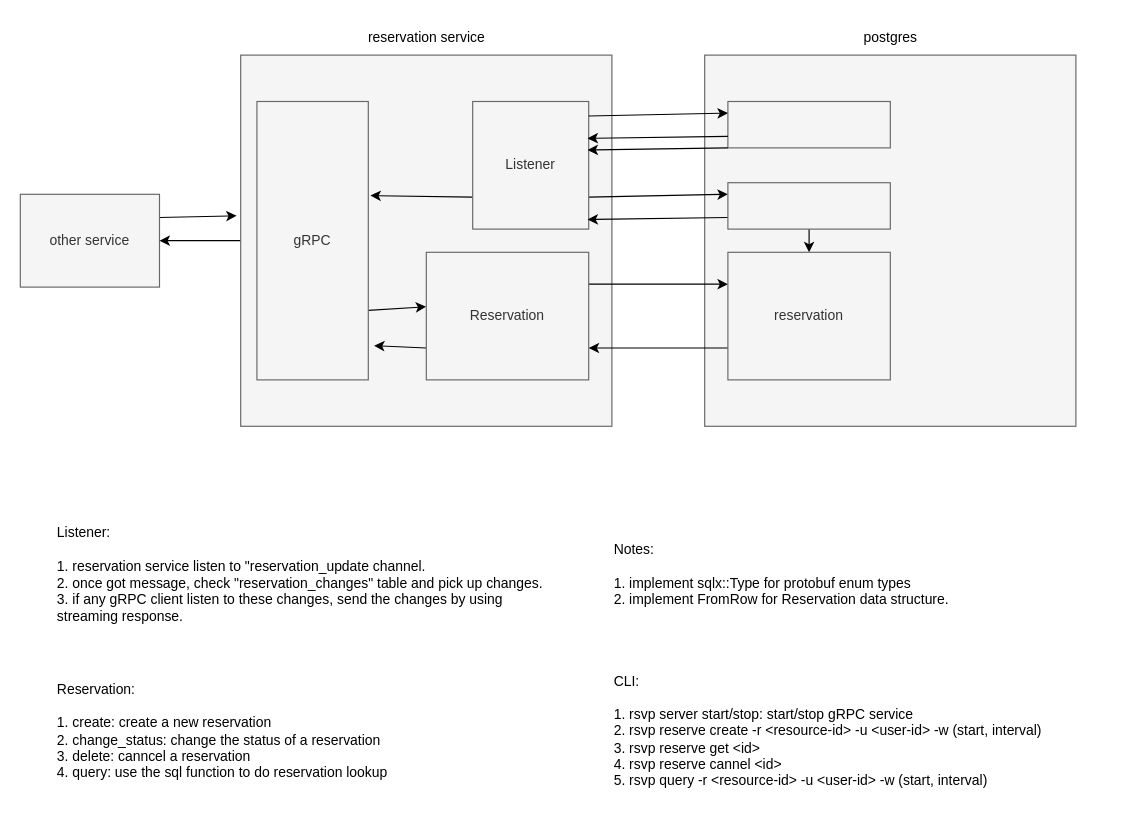
Some shapes in this 1131 by 822 pixel diagram are drawn without their labels. Each missing label, with the centre of its shape:
pg_notify: the point at 808,124
reservation_changes: the point at 808,205
